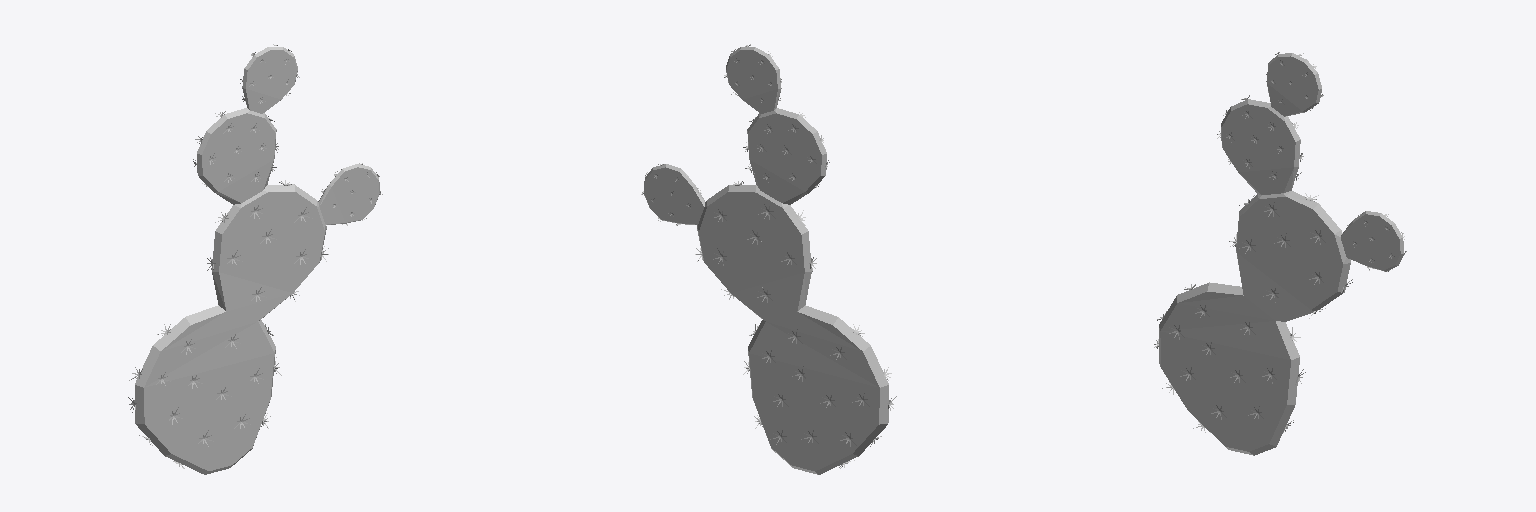
File: cactus1.obj
3 renders of one model, left to right at view 1: azimuth 30°, elevation 25°; view 2: azimuth 150°, elevation 25°; view 3: azimuth 330°, elevation 25°, orthographic.
Parts seen in each view (by area): view 1: Beavertail.001_.014; view 2: Beavertail.001_.014; view 3: Beavertail.001_.014.
Boxes of the visible parts, x1=… form: Beavertail.001_.014: x1=128, y1=44, x2=382, y2=474; Beavertail.001_.014: x1=641, y1=44, x2=896, y2=474; Beavertail.001_.014: x1=1154, y1=52, x2=1406, y2=455.
Bounding box in the file's own units: 1.86 × 2.91 × 0.1442.